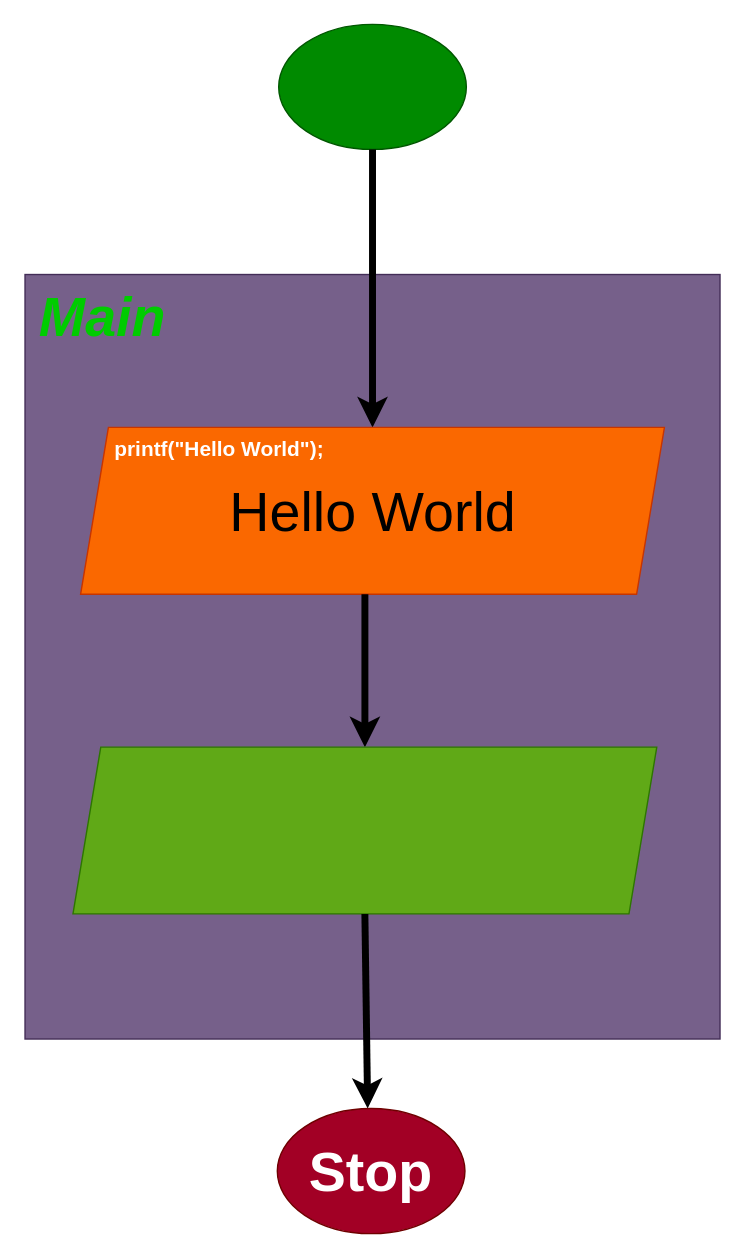
Some shapes in this 744 by 1258 pixel diagram are drawn without their labels. The box of each missing label's shape, as (x1, y1, x2, y2) in pixels:
getch();: (72, 746, 657, 914)
Start: (277, 23, 466, 149)
